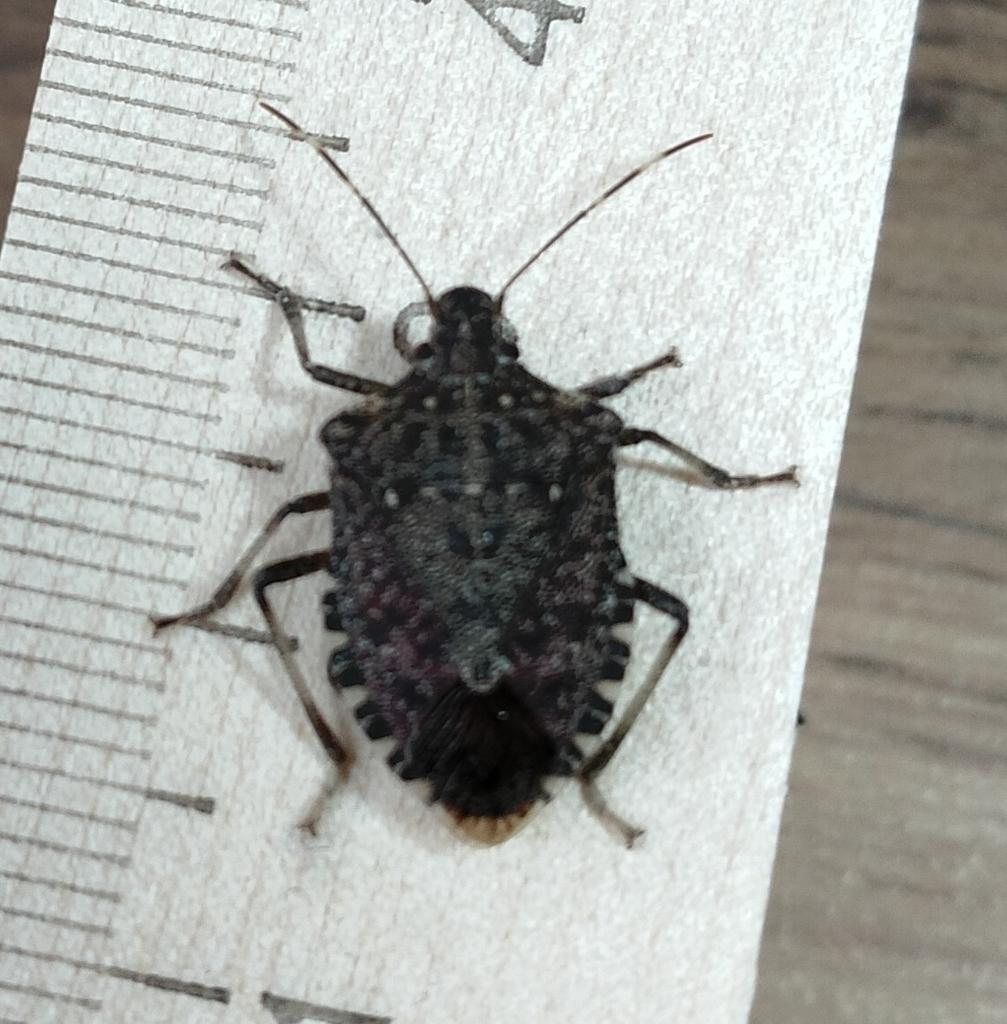stink_bugs: (0, 41, 989, 946)
